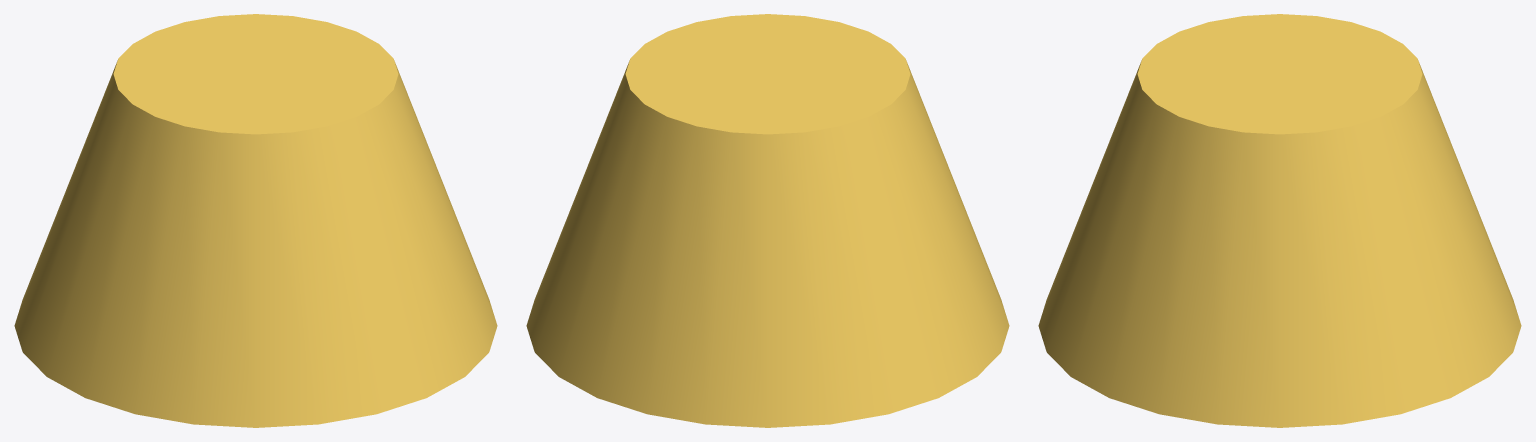
The model's file is Cono_Paralelo_BaseA.fbx.
3 views of the same model, side by side, from view 1: azimuth 30°, elevation 25°; view 2: azimuth 150°, elevation 25°; view 3: azimuth 270°, elevation 25° (orthographic).
Visible parts, largest first — view 1: Difference2; view 2: Difference2; view 3: Difference2.
Boxes of the visible parts, <box> form: Difference2: <box>14,14,497,427</box>; Difference2: <box>526,14,1009,427</box>; Difference2: <box>1038,14,1521,427</box>.
Size of the model in its own units: 100 by 57.48 by 100.
